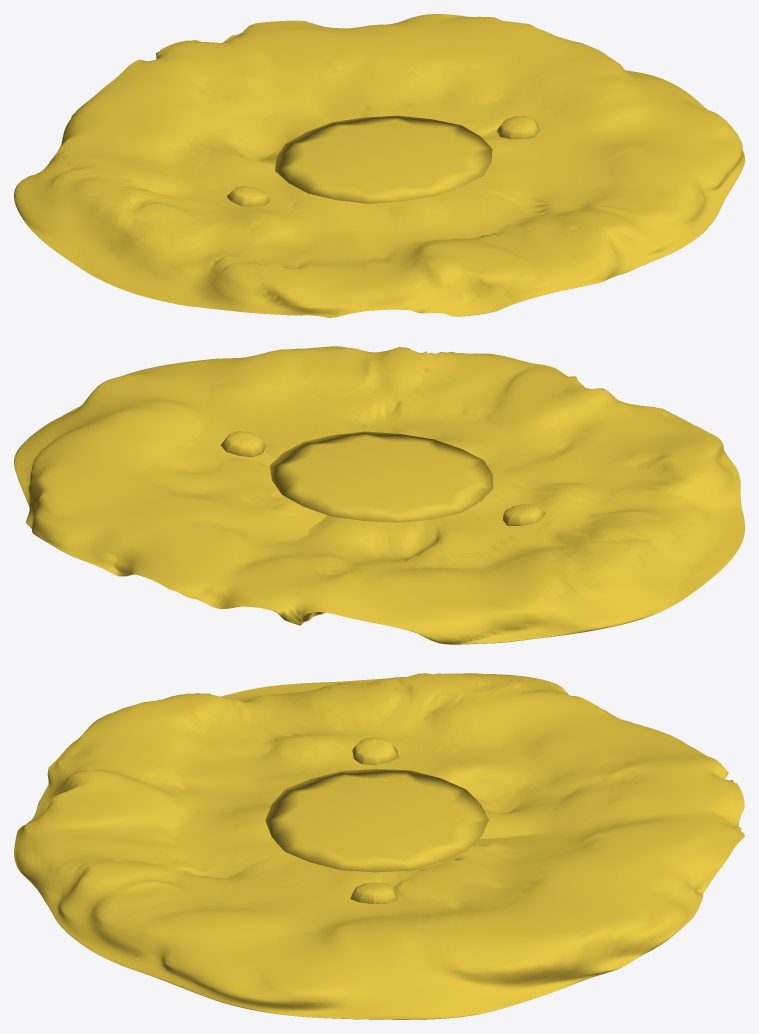
3 renders of one model, top to bottom at view 1: azimuth 30°, elevation 25°; view 2: azimuth 150°, elevation 25°; view 3: azimuth 270°, elevation 25°, orthographic. The views are drawn at different scales.
Parts seen in each view (by area): view 1: plane1, Cylinder.004, Cylinder.001, Cylinder.002; view 2: plane1, Cylinder.004, Cylinder.001, Cylinder.002; view 3: plane1, Cylinder.004, Cylinder.002, Cylinder.001.
Part boxes in pixels (bbox=[...]): plane1: bbox=[14, 14, 744, 317]; Cylinder.004: bbox=[275, 115, 492, 203]; Cylinder.001: bbox=[496, 116, 539, 139]; Cylinder.002: bbox=[226, 186, 270, 206]; plane1: bbox=[14, 346, 744, 644]; Cylinder.004: bbox=[269, 431, 493, 522]; Cylinder.001: bbox=[221, 431, 266, 457]; Cylinder.002: bbox=[502, 504, 545, 525]; plane1: bbox=[14, 673, 744, 1019]; Cylinder.004: bbox=[265, 769, 488, 872]; Cylinder.002: bbox=[352, 737, 398, 765]; Cylinder.001: bbox=[350, 882, 397, 903].
Bounding box in the file's own units: 25907 × 1597 × 23390.
